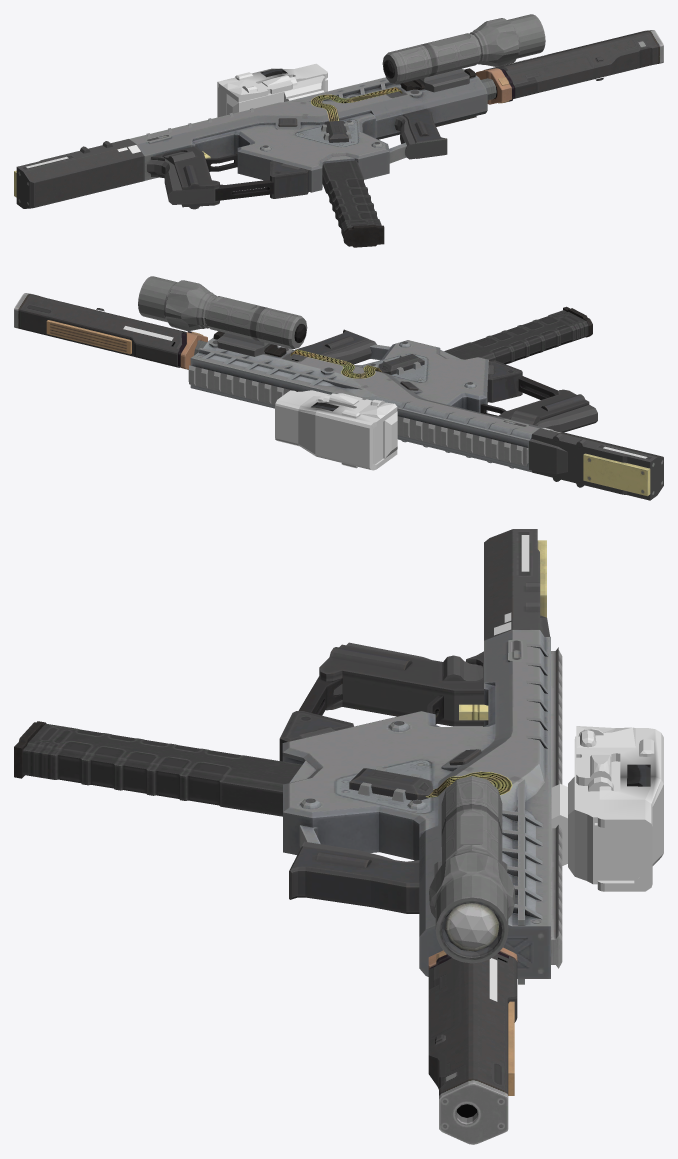
The picture shows the model from 3 angles, top to bottom: view 1: azimuth 30°, elevation 25°; view 2: azimuth 150°, elevation 25°; view 3: azimuth 270°, elevation 25°; orthographic projection. The views are drawn at different scales.
Parts seen in each view (by area): view 1: wp01a_a002c_sm.mo, wp01a_attach002c_sm.mo, wp01a_muzzle002c_sm.mo, wp01a_scope002c_sm.mo, wp01a_magazine002c_sm.mo; view 2: wp01a_a002c_sm.mo, wp01a_scope002c_sm.mo, wp01a_attach002c_sm.mo, wp01a_muzzle002c_sm.mo, wp01a_magazine002c_sm.mo; view 3: wp01a_a002c_sm.mo, wp01a_scope002c_sm.mo, wp01a_muzzle002c_sm.mo, wp01a_magazine002c_sm.mo, wp01a_attach002c_sm.mo.
Boxes of the visible parts, x1,y1,x2,y2 form: wp01a_a002c_sm.mo: (14, 68, 496, 209); wp01a_attach002c_sm.mo: (382, 14, 545, 92); wp01a_muzzle002c_sm.mo: (476, 30, 663, 104); wp01a_scope002c_sm.mo: (217, 63, 327, 117); wp01a_magazine002c_sm.mo: (322, 160, 384, 247); wp01a_a002c_sm.mo: (188, 329, 663, 500); wp01a_scope002c_sm.mo: (275, 390, 397, 470); wp01a_attach002c_sm.mo: (138, 276, 307, 356); wp01a_muzzle002c_sm.mo: (14, 293, 207, 369); wp01a_magazine002c_sm.mo: (444, 306, 592, 364); wp01a_a002c_sm.mo: (279, 529, 562, 984); wp01a_scope002c_sm.mo: (551, 726, 663, 891); wp01a_muzzle002c_sm.mo: (428, 947, 517, 1144); wp01a_magazine002c_sm.mo: (14, 721, 302, 816); wp01a_attach002c_sm.mo: (429, 776, 514, 963).
Bounding box in the file's own units: 0.6852 × 0.0941 × 0.3413.
8 materials, 5 textured.
